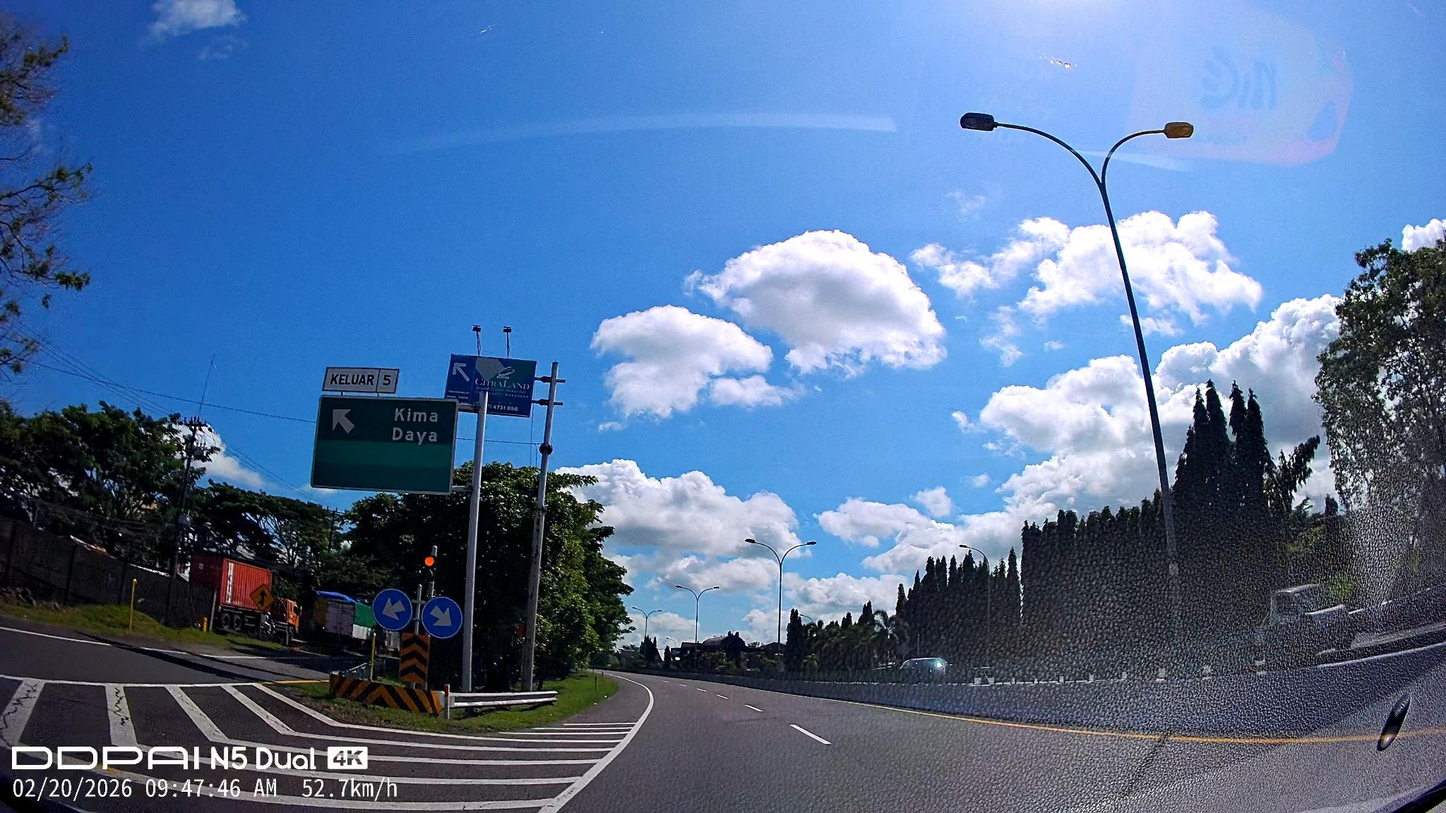rambu_teks: (308, 393, 460, 497)
